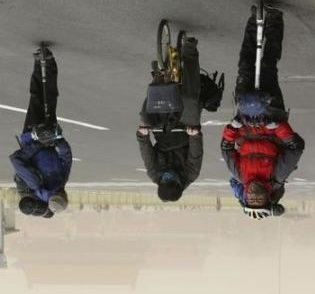person: (217, 5, 306, 220), (134, 32, 206, 203), (9, 41, 77, 218)
